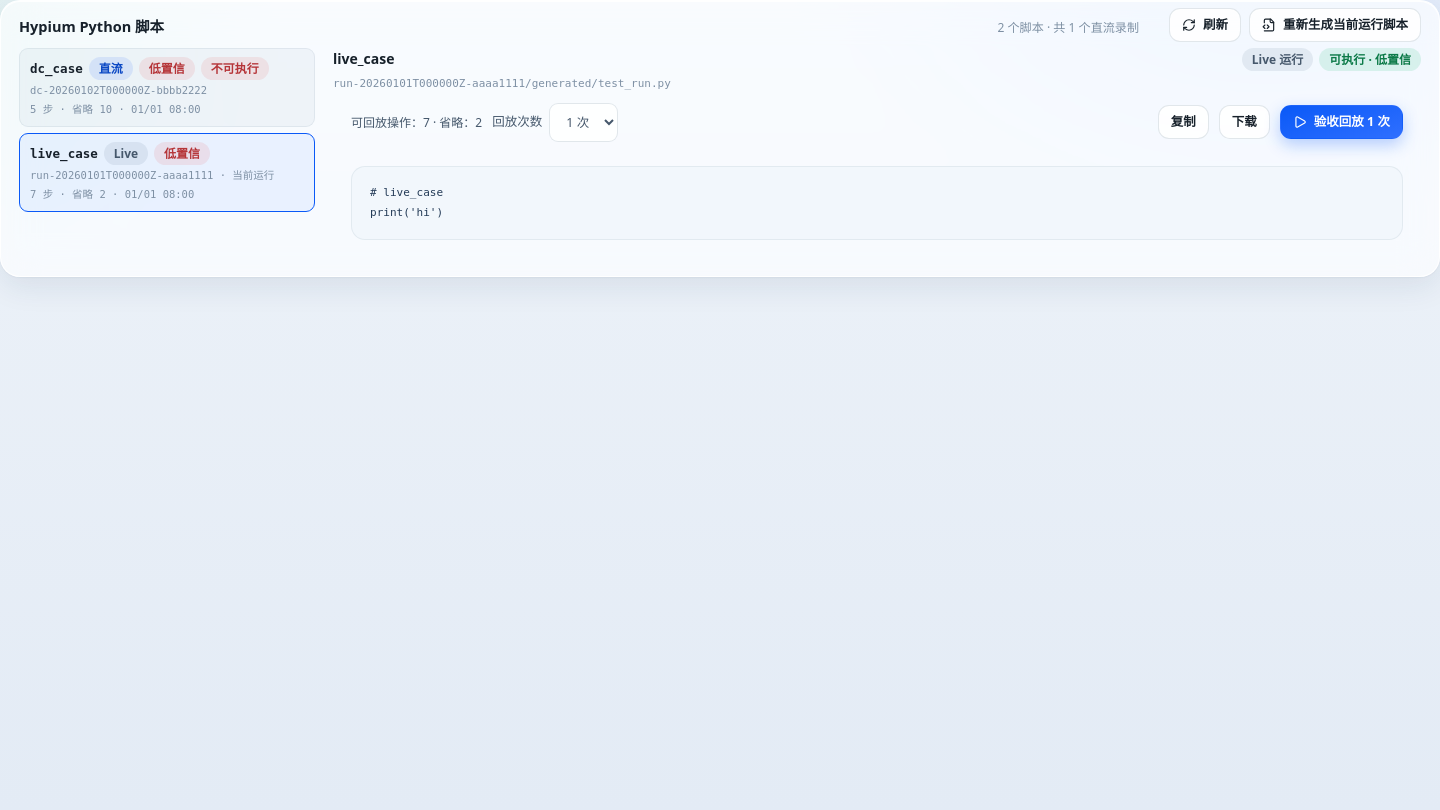
Test: ScriptPanel 脚本库 › 直流脚本可诊断启动，并展示证据链接
This screenshot has width=1440, height=810.
Click the option "dc_case" at (167, 88), box x1=19 y1=48 x2=315 y2=127
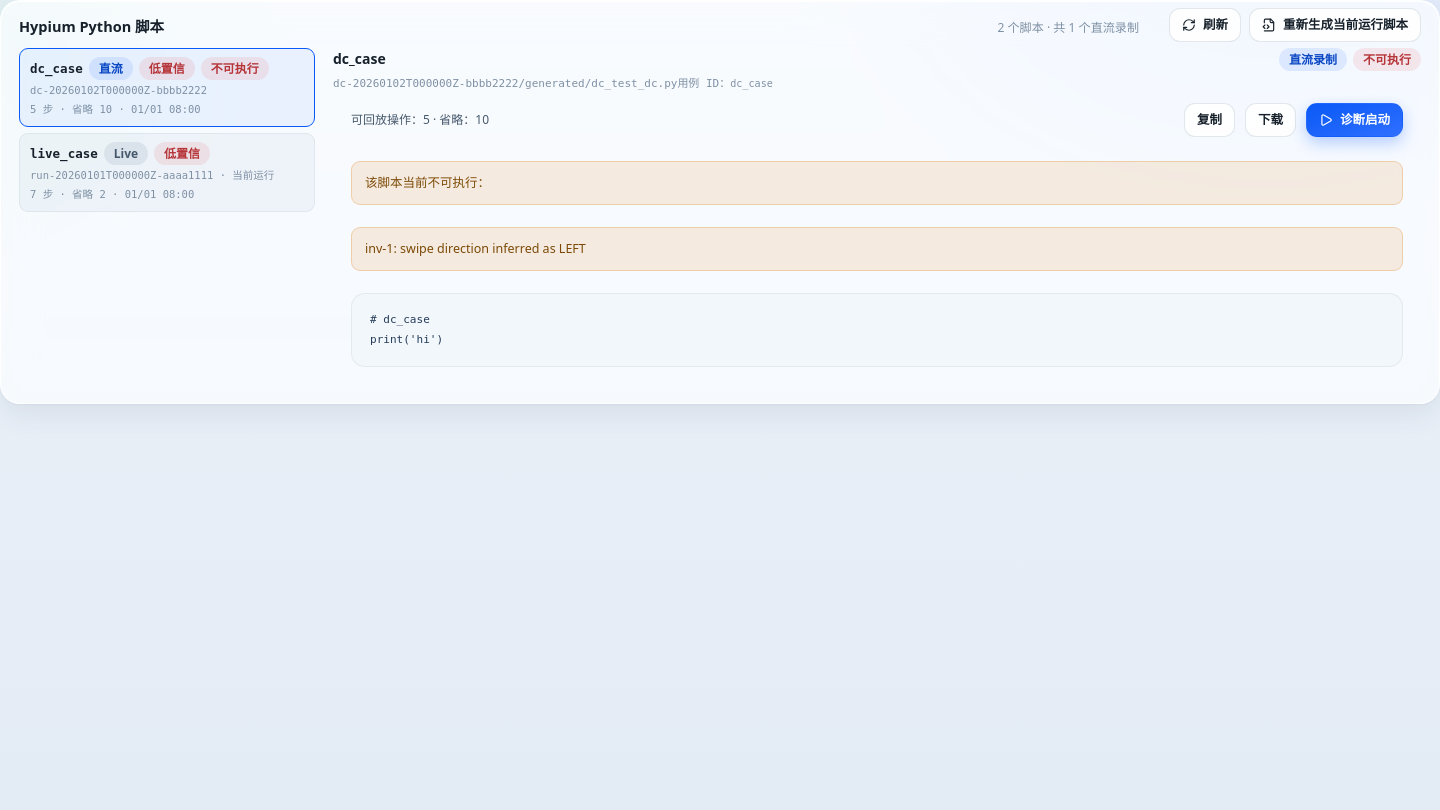
Click the button "诊断启动" at (1354, 120), box x1=1306 y1=103 x2=1403 y2=137
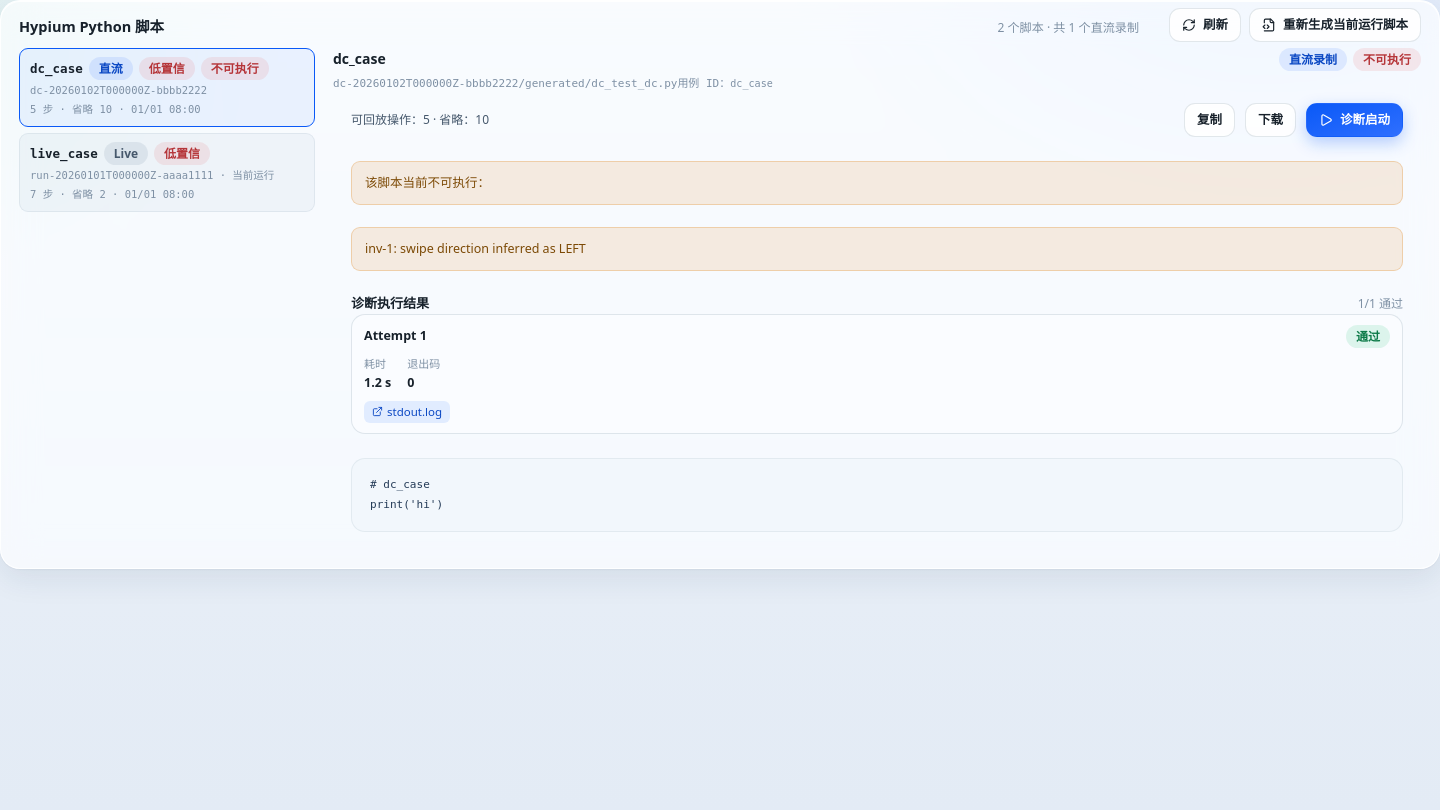
Result: the text "诊断执行结果" is shown at x1=351 y1=294 x2=429 y2=312
